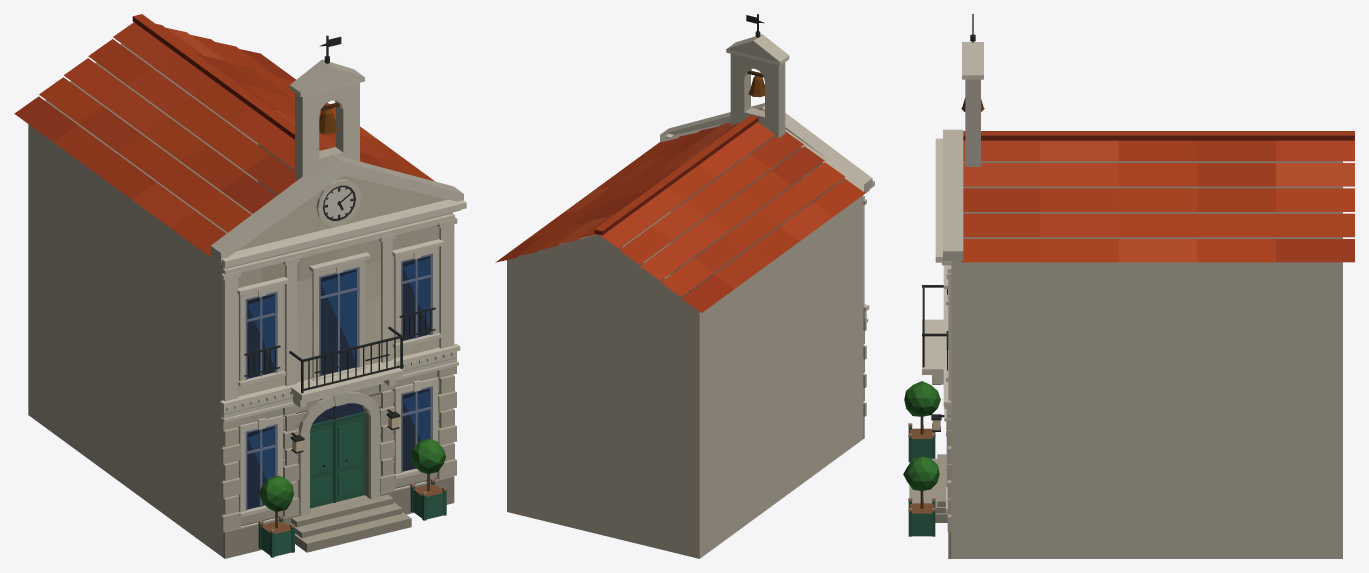
The model's file is mairie.glb.
3 renders of one model, left to right at view 1: azimuth 30°, elevation 25°; view 2: azimuth 150°, elevation 25°; view 3: azimuth 270°, elevation 25°, orthographic. The views are drawn at different scales.
Visible parts, largest first — view 1: mairie; view 2: mairie; view 3: mairie.
Part boxes in pixels (bbox=[...]): mairie: bbox=[14, 14, 466, 558]; mairie: bbox=[495, 14, 874, 558]; mairie: bbox=[903, 14, 1354, 558].
Size of the model in its own units: 7.3 by 13.76 by 11.53.
